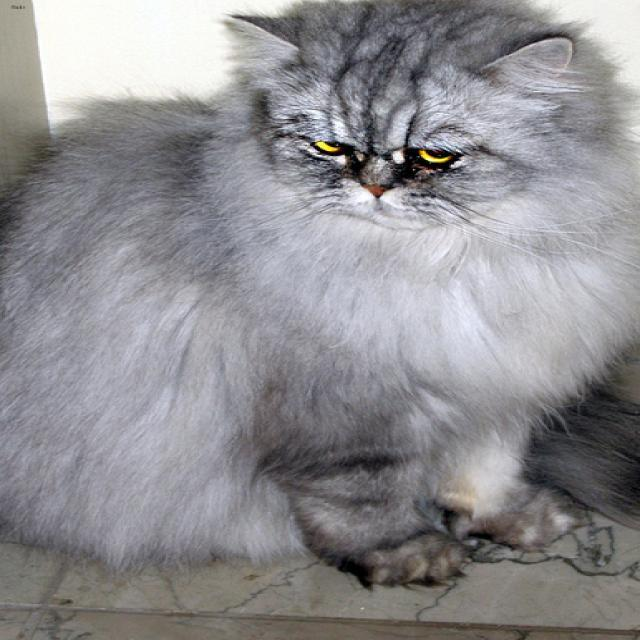Persian: (228, 12, 571, 227)
